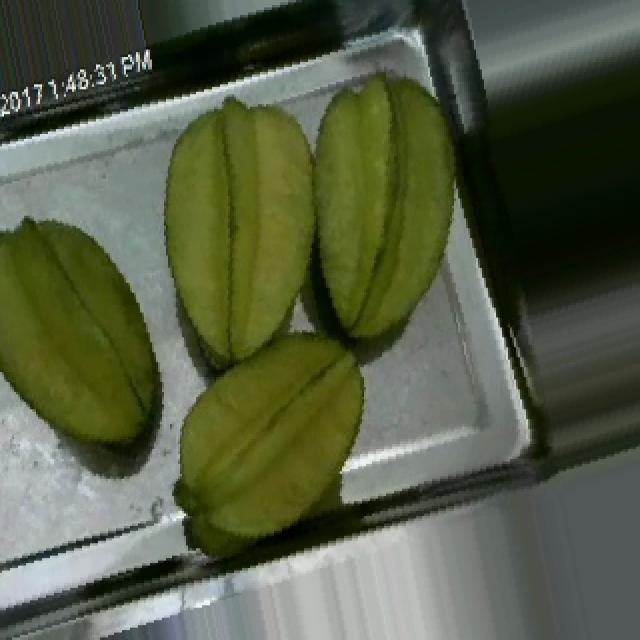fruit: (238, 44, 510, 370), (122, 70, 368, 394), (150, 300, 394, 573), (0, 194, 190, 482)
